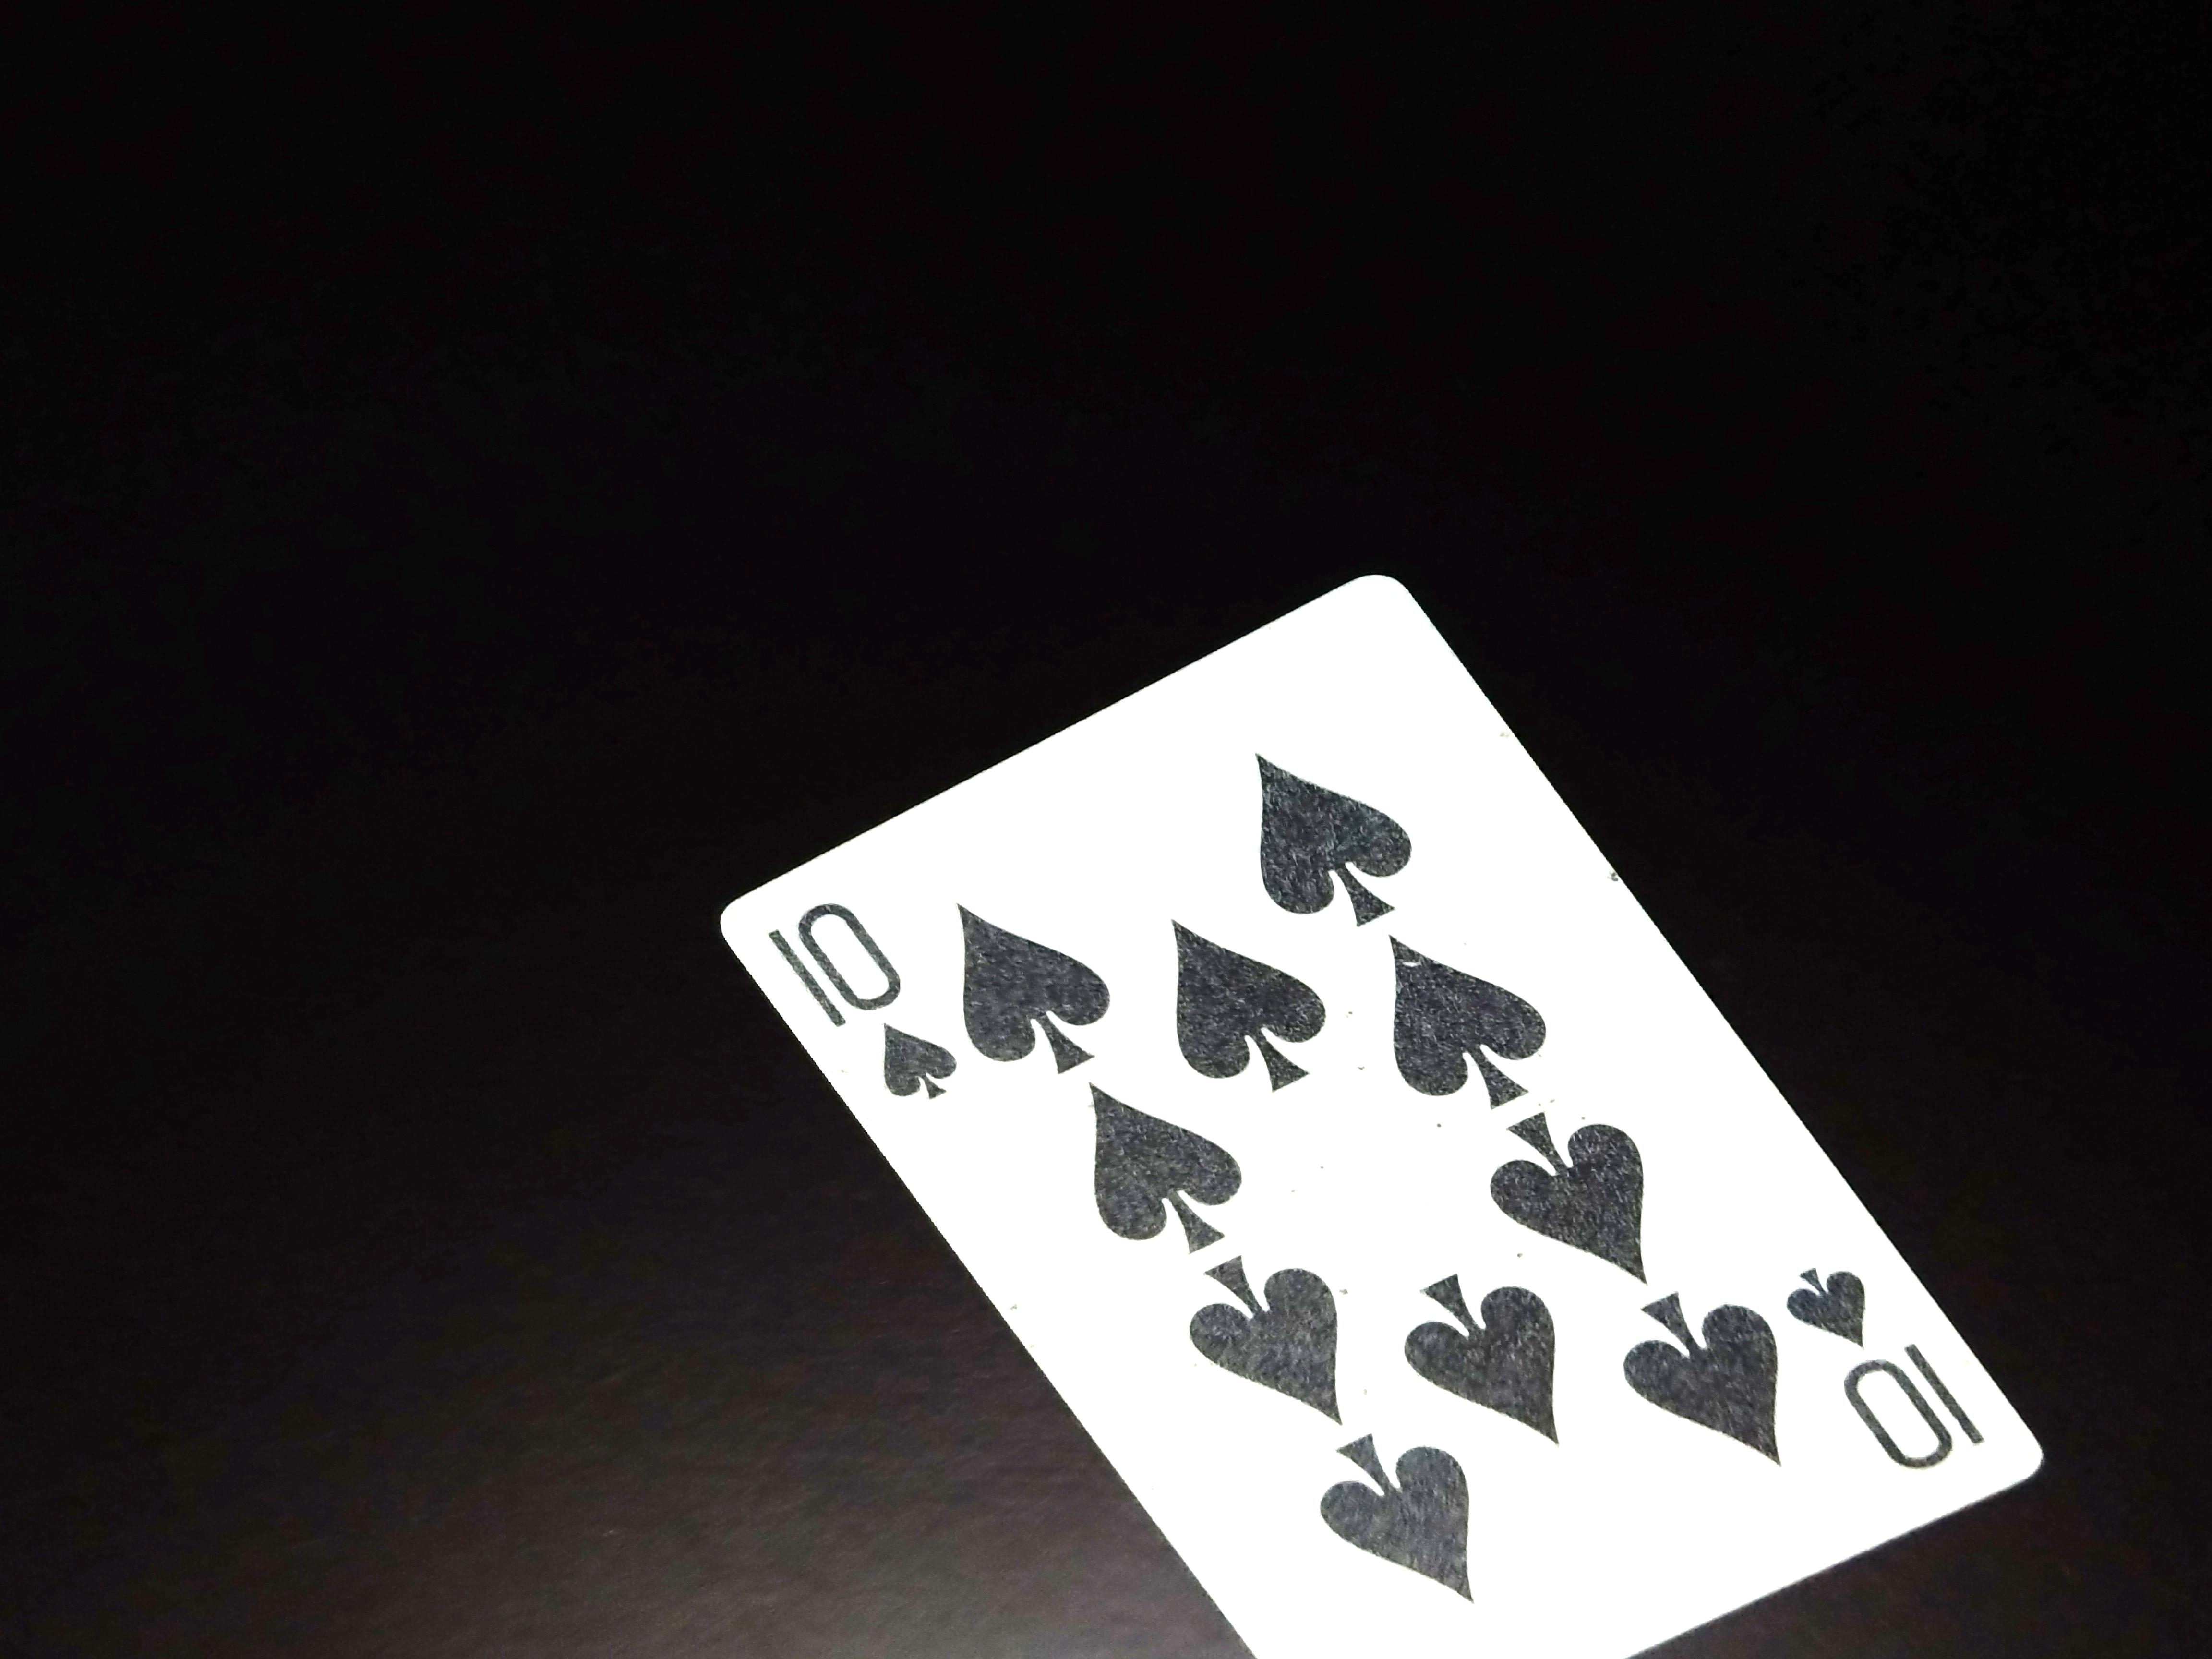10S: (770, 870, 965, 1124)
